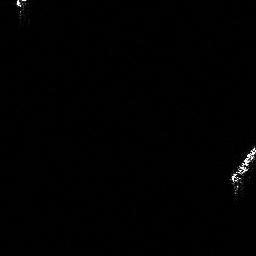ship: (227, 144, 256, 197)
